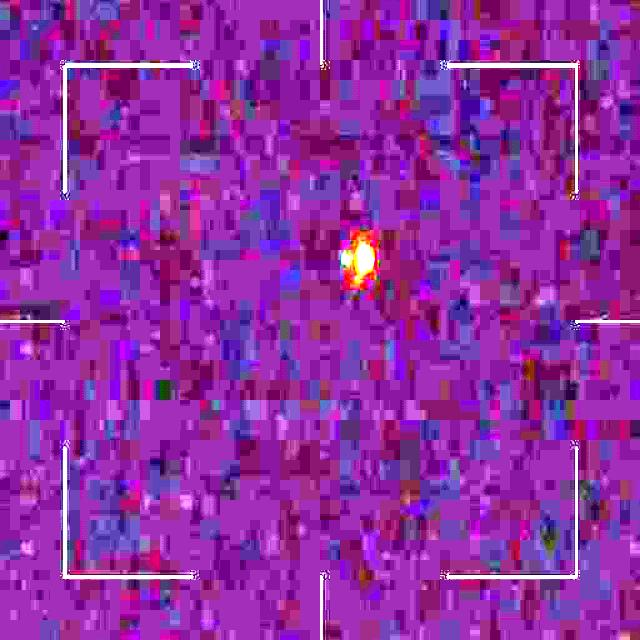bird: (340, 238, 378, 289)
